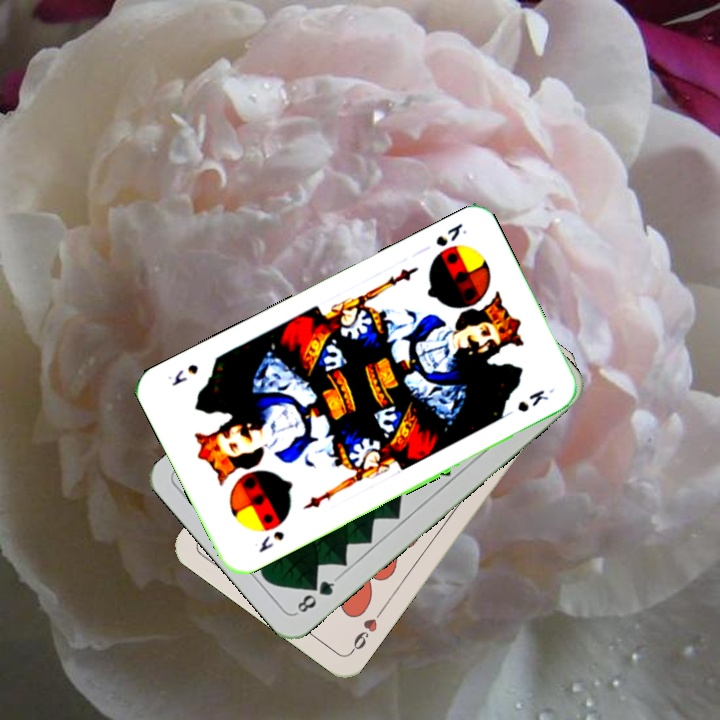G8: (291, 573, 340, 617)
H9: (346, 605, 387, 656)
SK: (431, 219, 470, 249), (254, 527, 287, 556)
